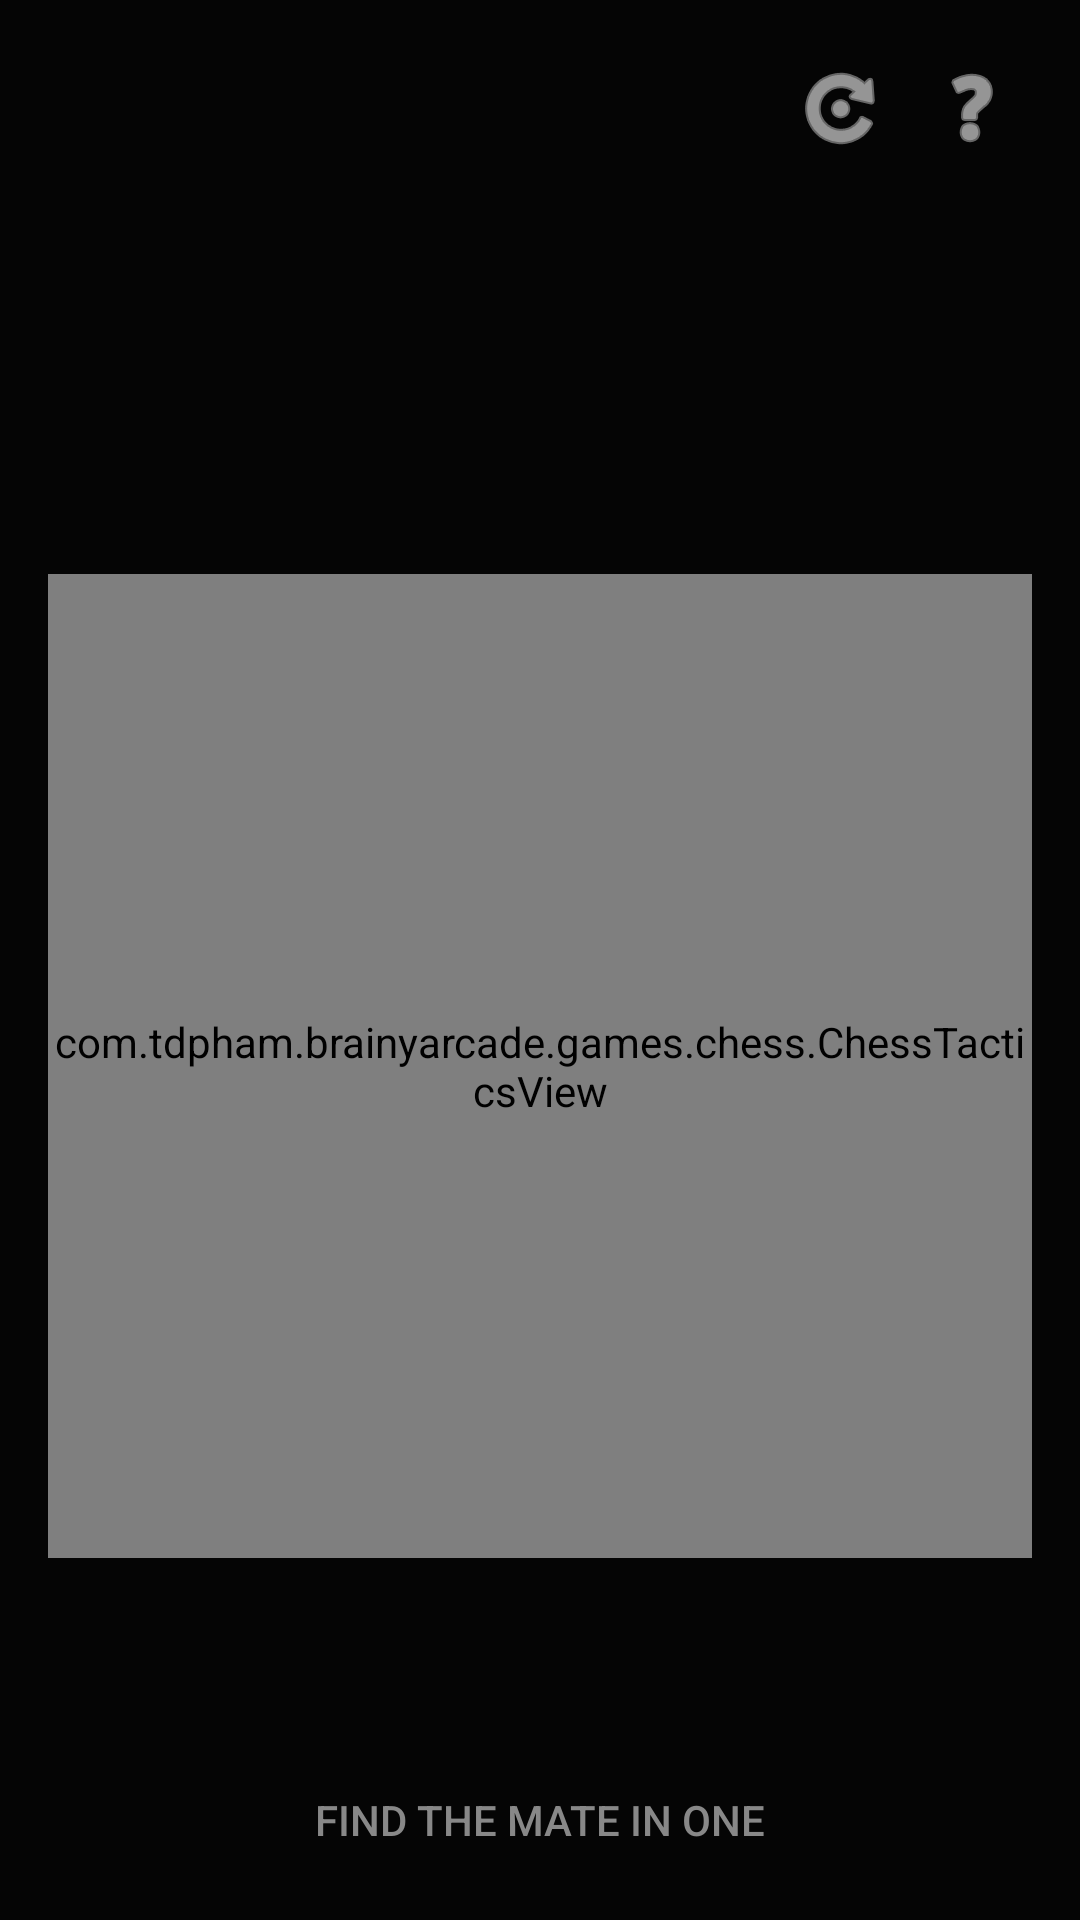

Locate icon controls on the screen. Image size 1080*1920, boxes as bbox=[x1, y1, x2, y2].
How to Play: bbox=[951, 74, 993, 142]
New Game: bbox=[805, 73, 875, 144]
